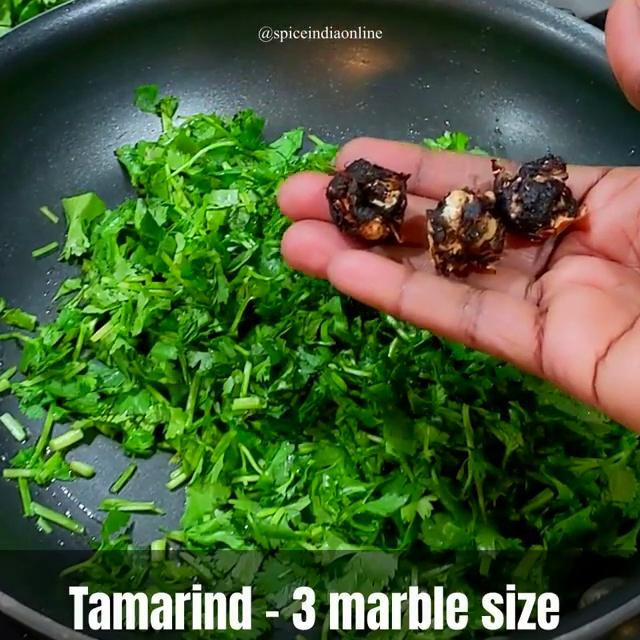cilantro: (183, 370, 534, 553)
